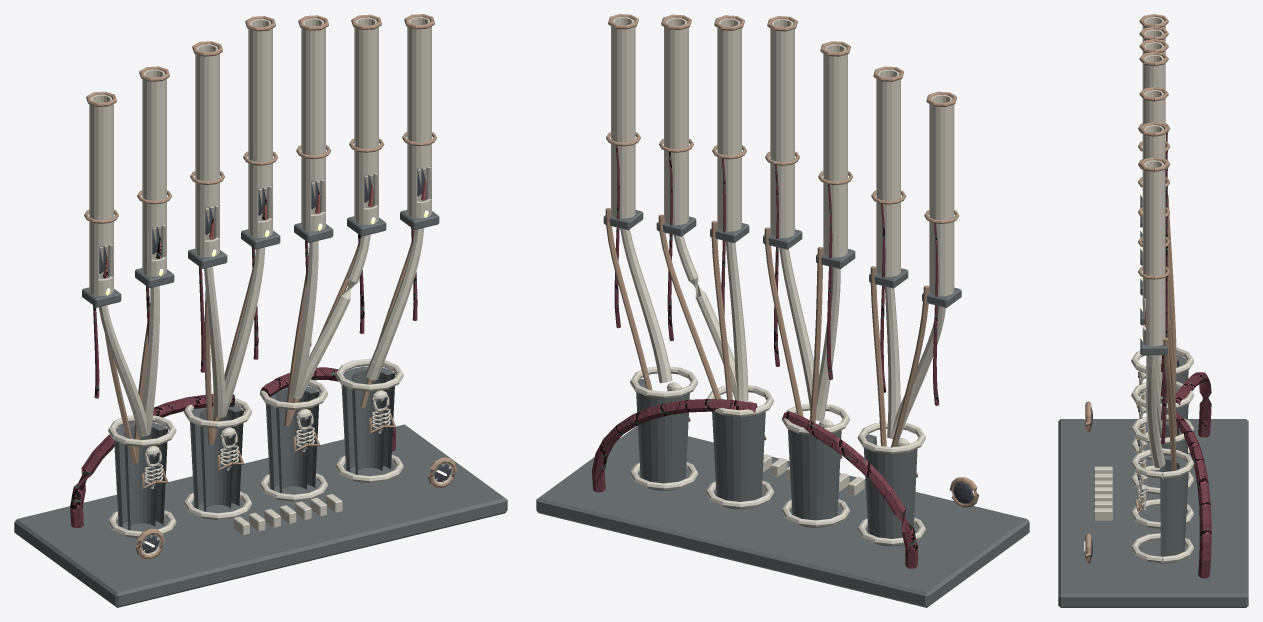
The model's file is processional_seven_reeds.glb.
The picture shows the model from 3 angles, left to right: view 1: azimuth 30°, elevation 25°; view 2: azimuth 150°, elevation 25°; view 3: azimuth 270°, elevation 25°; orthographic projection. The views are drawn at different scales.
Visible parts, largest first — view 1: processional_seven_reeds_warm, processional_seven_reeds_petrol, processional_seven_reeds_worn, processional_seven_reeds_bruised, processional_seven_reeds_deep; view 2: processional_seven_reeds_warm, processional_seven_reeds_petrol, processional_seven_reeds_worn, processional_seven_reeds_bruised; view 3: processional_seven_reeds_petrol, processional_seven_reeds_warm, processional_seven_reeds_worn, processional_seven_reeds_bruised.
Part boxes in pixels (left/top/right/bottom): processional_seven_reeds_warm: left=89, top=17, right=453, bottom=555; processional_seven_reeds_petrol: left=14, top=210, right=507, bottom=607; processional_seven_reeds_worn: left=84, top=14, right=456, bottom=559; processional_seven_reeds_bruised: left=70, top=227, right=417, bottom=527; processional_seven_reeds_deep: left=99, top=168, right=450, bottom=553; processional_seven_reeds_warm: left=611, top=17, right=973, bottom=545; processional_seven_reeds_petrol: left=536, top=210, right=1029, bottom=607; processional_seven_reeds_worn: left=605, top=14, right=978, bottom=507; processional_seven_reeds_bruised: left=592, top=145, right=939, bottom=568; processional_seven_reeds_petrol: left=1058, top=194, right=1248, bottom=607; processional_seven_reeds_warm: left=1086, top=17, right=1194, bottom=563; processional_seven_reeds_worn: left=1085, top=14, right=1176, bottom=563; processional_seven_reeds_bruised: left=1161, top=133, right=1211, bottom=578.
Size of the model in its own units: 6.37 by 7.78 by 2.9.
7 materials, 2 textured.
